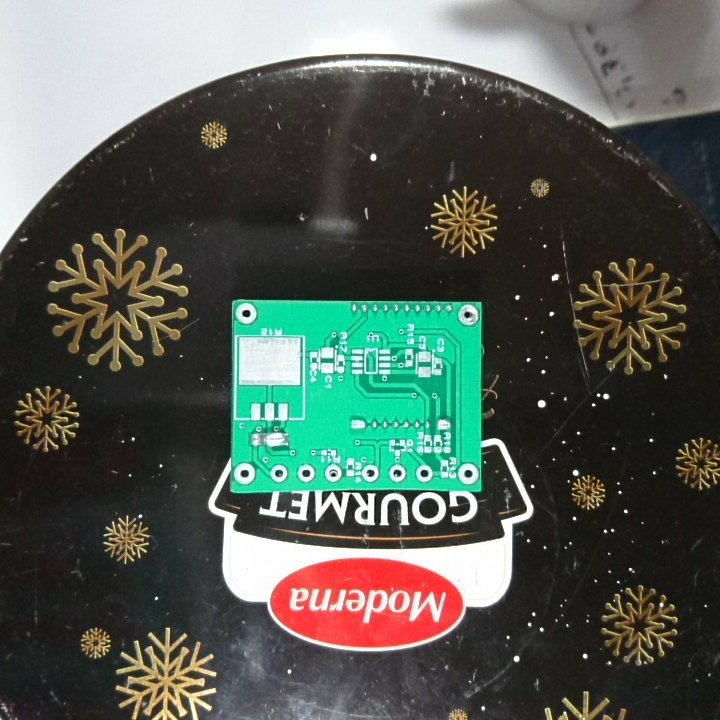F: (231, 459, 257, 486), (234, 301, 259, 326), (455, 303, 479, 328), (456, 461, 479, 486), (296, 462, 317, 485), (359, 462, 382, 483), (322, 462, 344, 483), (268, 463, 290, 483), (414, 463, 434, 484), (388, 463, 408, 483)
P: (263, 429, 291, 451), (434, 415, 455, 433), (347, 415, 368, 433)
